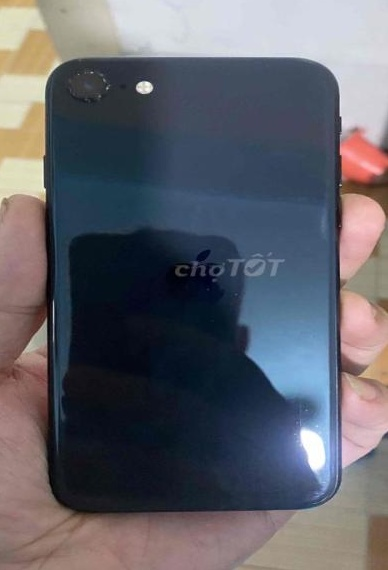scratch: (60, 67, 116, 101), (317, 165, 339, 251)
